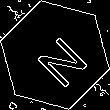N_NW: (23, 23, 87, 87)
